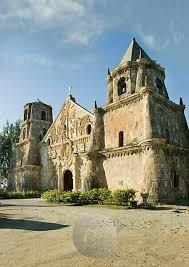Miagao Church: (6, 37, 189, 205)
